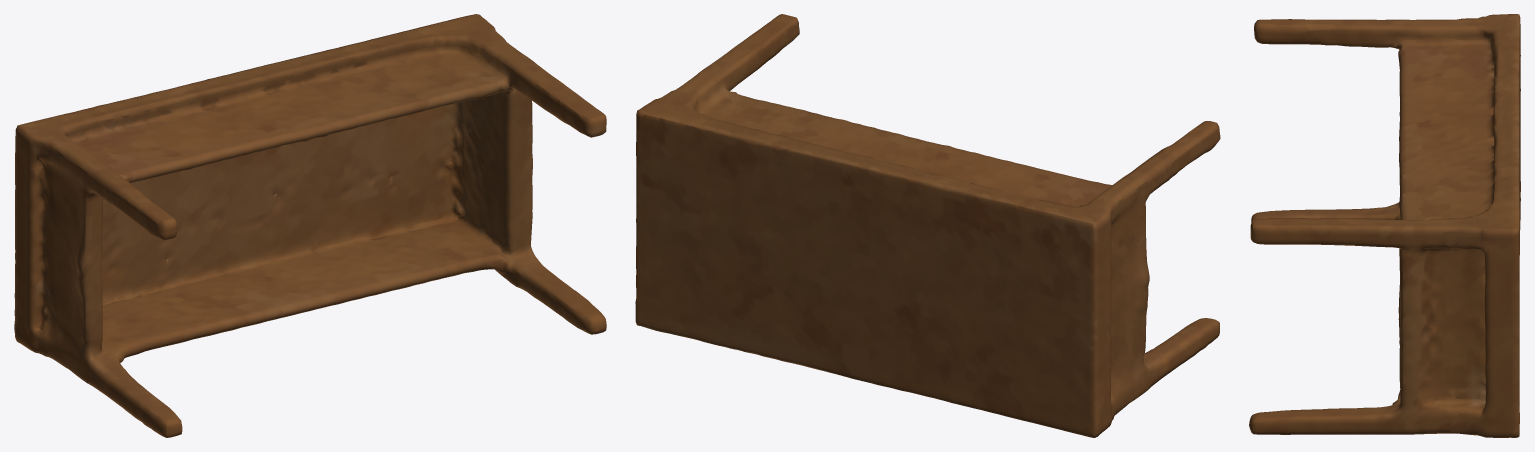
Rendered from Rectangular wooden table with two legs, light brow.glb.
The picture shows the model from 3 angles, left to right: view 1: azimuth 30°, elevation 25°; view 2: azimuth 150°, elevation 25°; view 3: azimuth 270°, elevation 25°; orthographic projection. The views are drawn at different scales.
Parts seen in each view (by area): view 1: Rectangular wooden table with two legs, light brow; view 2: Rectangular wooden table with two legs, light brow; view 3: Rectangular wooden table with two legs, light brow.
Part boxes in pixels (bbox=[...]): Rectangular wooden table with two legs, light brow: bbox=[14, 14, 606, 437]; Rectangular wooden table with two legs, light brow: bbox=[635, 14, 1220, 437]; Rectangular wooden table with two legs, light brow: bbox=[1249, 14, 1520, 437].
Bounding box in the file's own units: 1 × 0.4461 × 0.5256.
